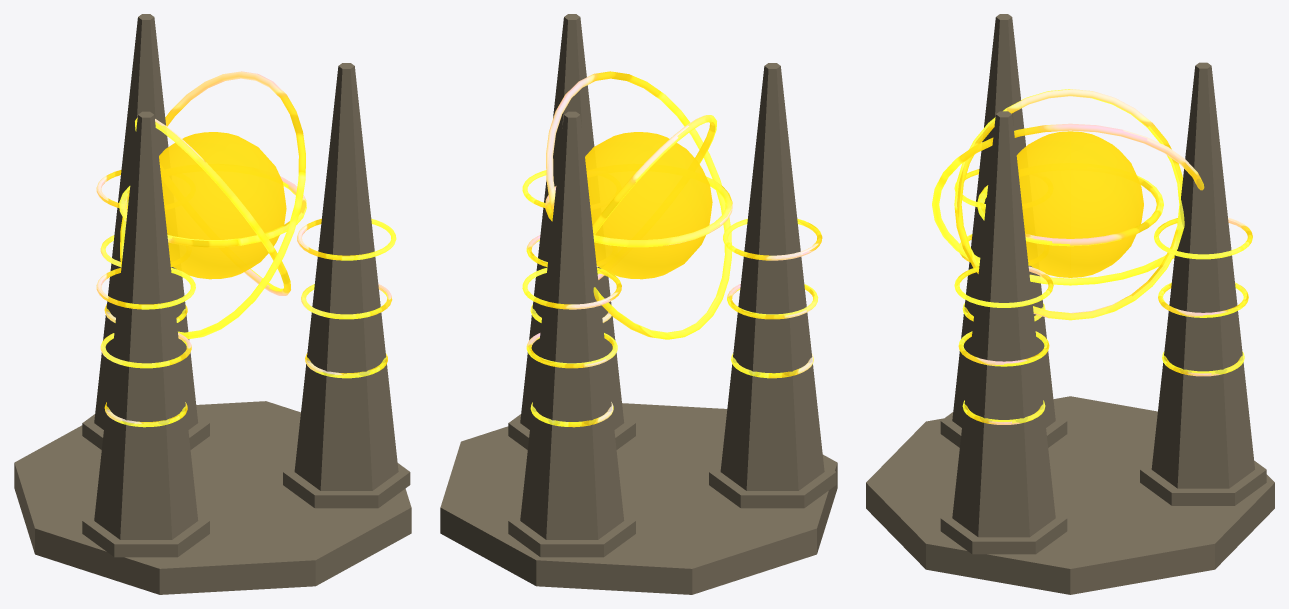
The model's file is solar_sun_pillar.glb.
The picture shows the model from 3 angles, left to right: view 1: azimuth 30°, elevation 25°; view 2: azimuth 150°, elevation 25°; view 3: azimuth 270°, elevation 25°; orthographic projection.
Visible parts, largest first — view 1: SolarSunPillar; view 2: SolarSunPillar; view 3: SolarSunPillar.
Part boxes in pixels (x1=…): SolarSunPillar: x1=14, y1=14, x2=411, y2=594; SolarSunPillar: x1=440, y1=14, x2=837, y2=594; SolarSunPillar: x1=866, y1=14, x2=1274, y2=594.
Bounding box in the file's own units: 4 × 4.78 × 4.
2 materials, 2 textured.
